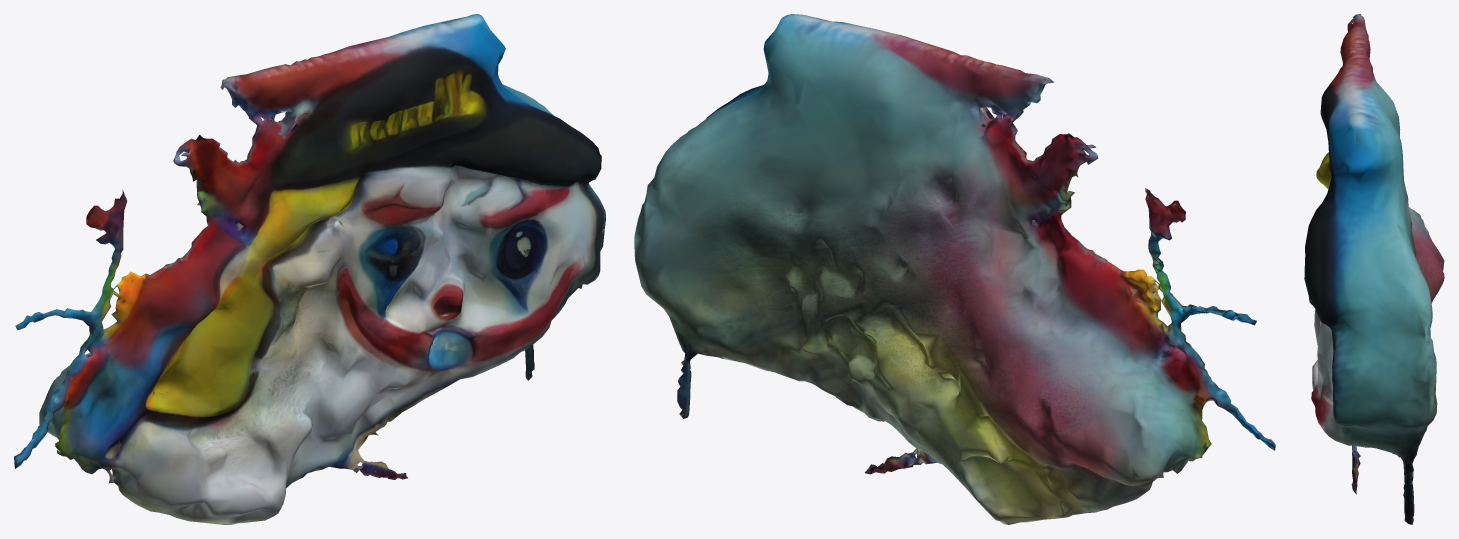
The model's file is Clown_Chaos_Retur_Dio_1014152444.obj.
The picture shows the model from 3 angles, left to right: view 1: azimuth 30°, elevation 25°; view 2: azimuth 150°, elevation 25°; view 3: azimuth 270°, elevation 25°; orthographic projection. The views are drawn at different scales.
Visible parts, largest first — view 1: Mesh_0; view 2: Mesh_0; view 3: Mesh_0.
Boxes of the visible parts, x1,y1,x2,y2 form: Mesh_0: (14, 14, 605, 524); Mesh_0: (634, 14, 1275, 524); Mesh_0: (1304, 14, 1444, 524).
Size of the model in its own units: 1.2 by 0.8602 by 0.2699.
1 material, 1 textured.
